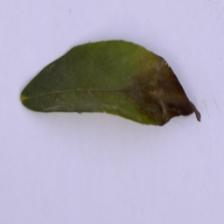black spot: (139, 60, 199, 130)
